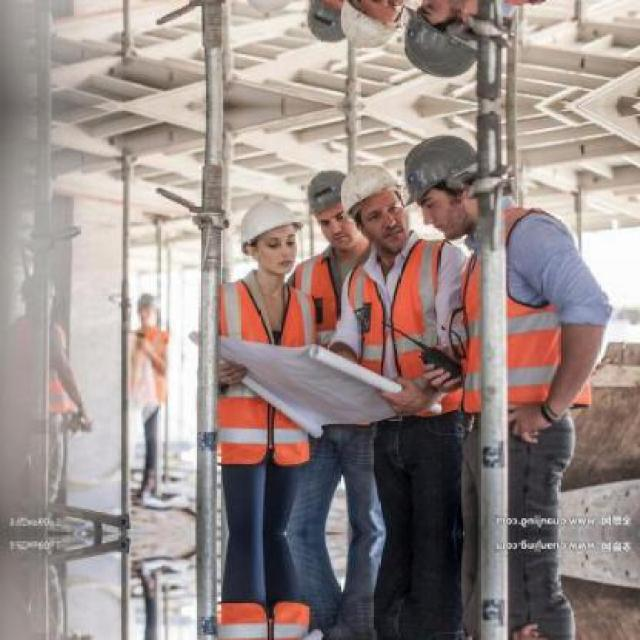Reflective-Jacket: (450, 199, 604, 427), (343, 231, 483, 429), (203, 276, 320, 470)
Safety-Helmet: (392, 128, 494, 210), (229, 191, 309, 253), (332, 160, 406, 220)
